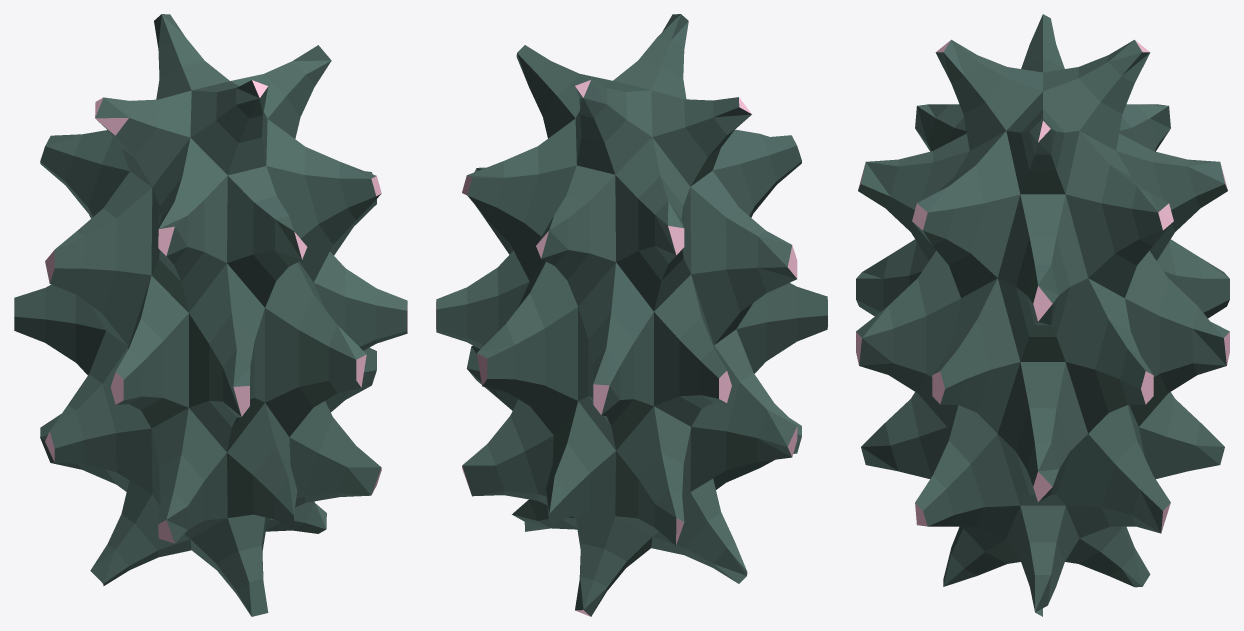
The model's file is cactus_2.fbx.
The picture shows the model from 3 angles, left to right: view 1: azimuth 30°, elevation 25°; view 2: azimuth 150°, elevation 25°; view 3: azimuth 270°, elevation 25°; orthographic projection.
Parts seen in each view (by area): view 1: cactus_2; view 2: cactus_2; view 3: cactus_2.
Boxes of the visible parts, x1=… form: cactus_2: x1=14, y1=14, x2=407, y2=616; cactus_2: x1=436, y1=14, x2=827, y2=616; cactus_2: x1=856, y1=14, x2=1229, y2=616.
Bounding box in the file's own units: 71.01 × 112 × 69.17.
